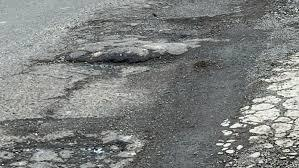Pothole: (19, 112, 135, 164), (51, 47, 159, 80), (172, 53, 231, 83)
